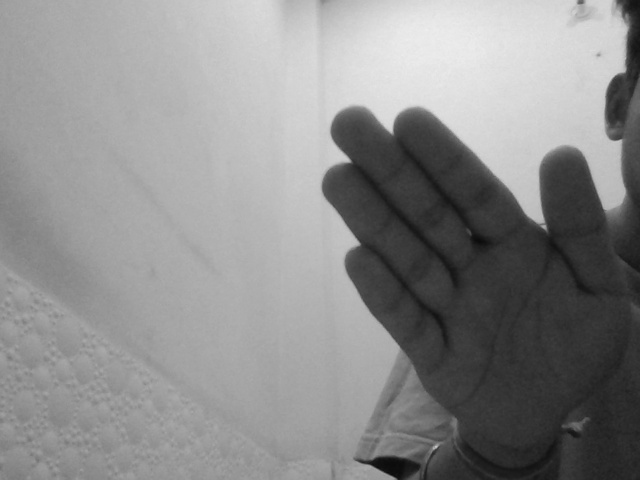Hello: (316, 99, 635, 448)
